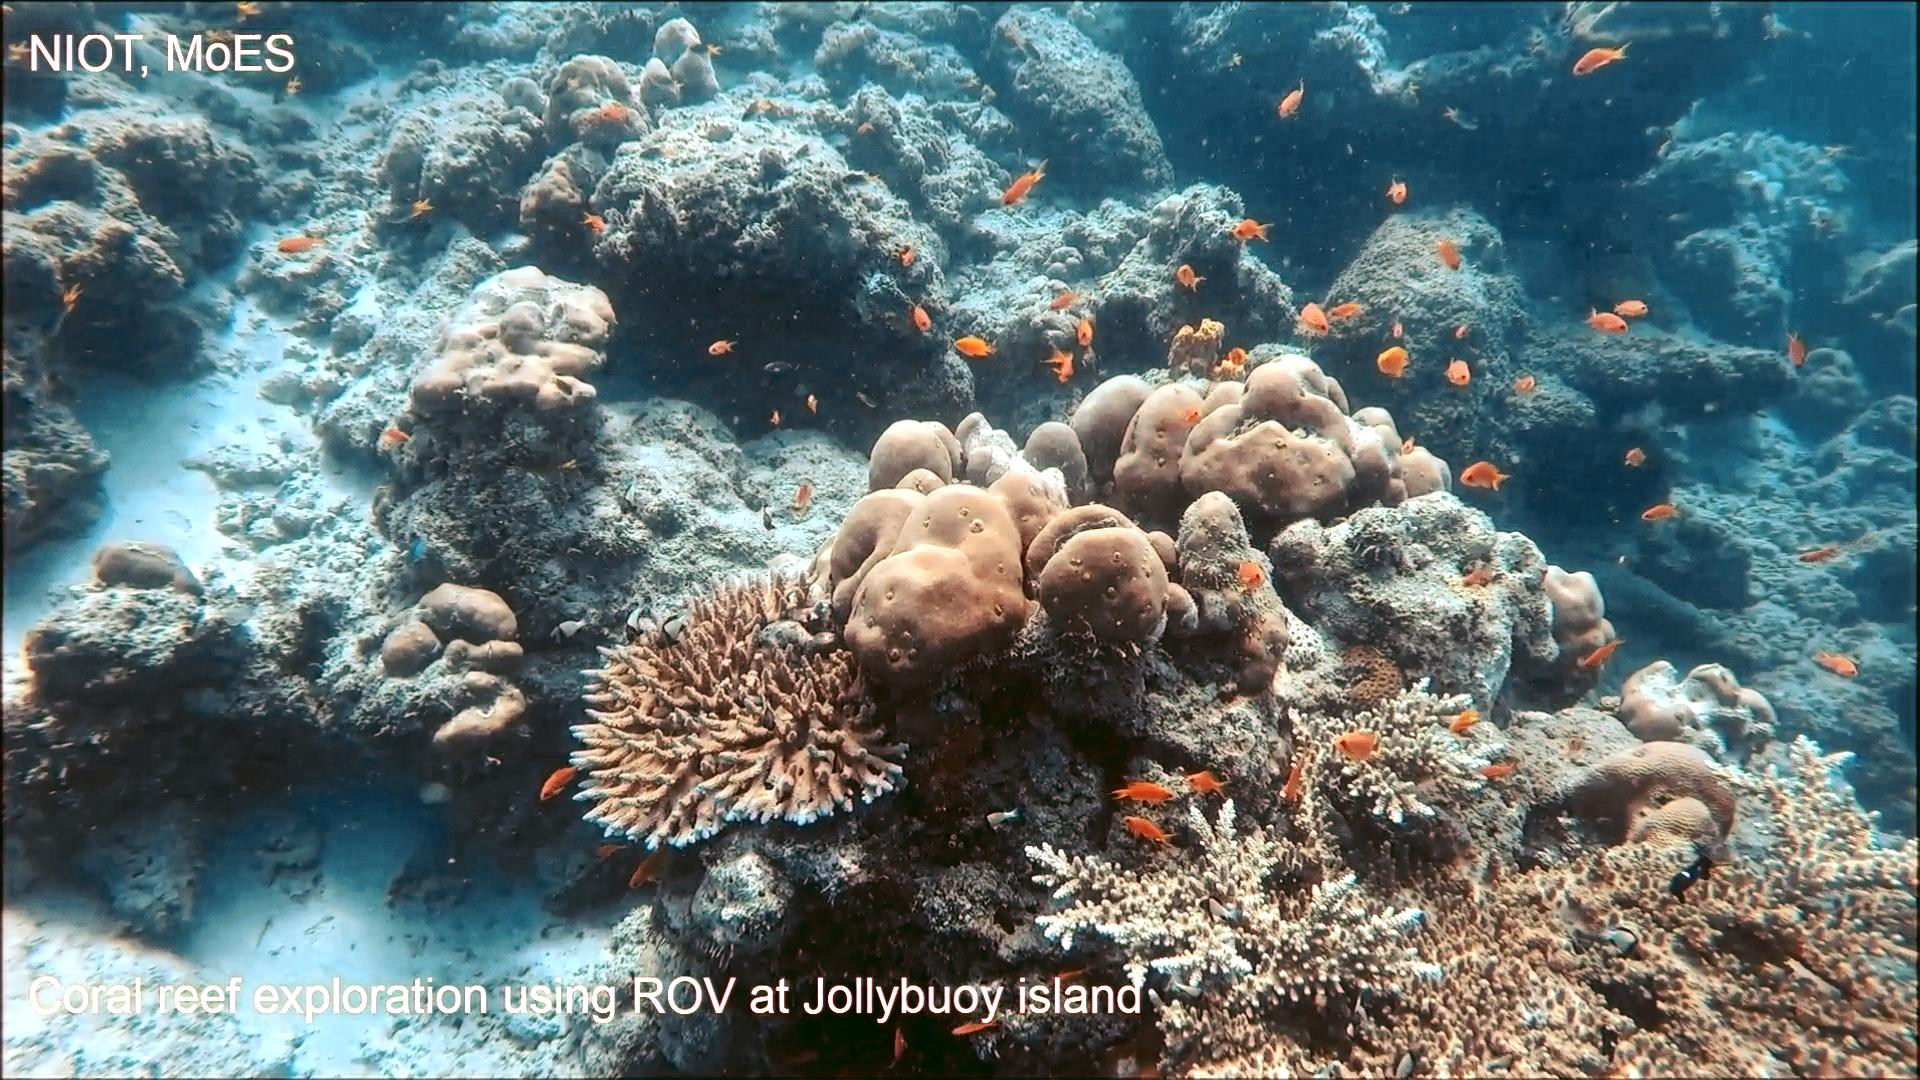Porites-Porites pukoensis: (808, 409, 1176, 703), (1056, 344, 1455, 529)
